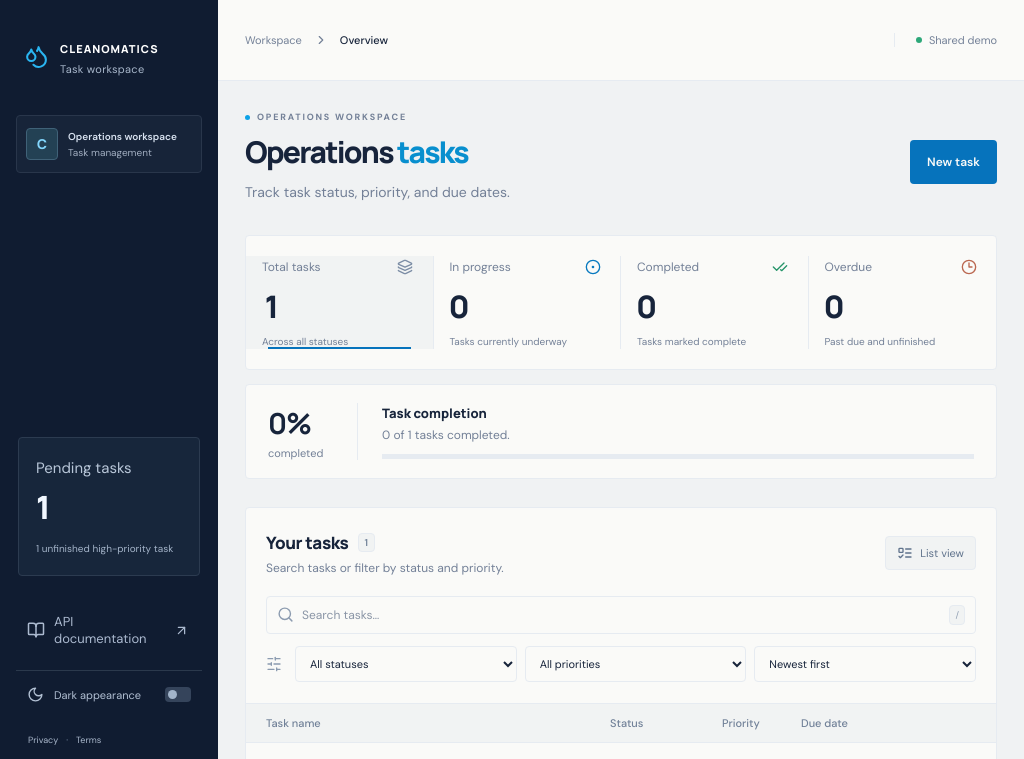
Test: workspace journeys › keeps form values on failed save; Escape closes dialog and theme persists
The image size is (1024, 759).
Click the button with aria-label "Switch to dark mode": (109, 694) [16, 670, 202, 718]
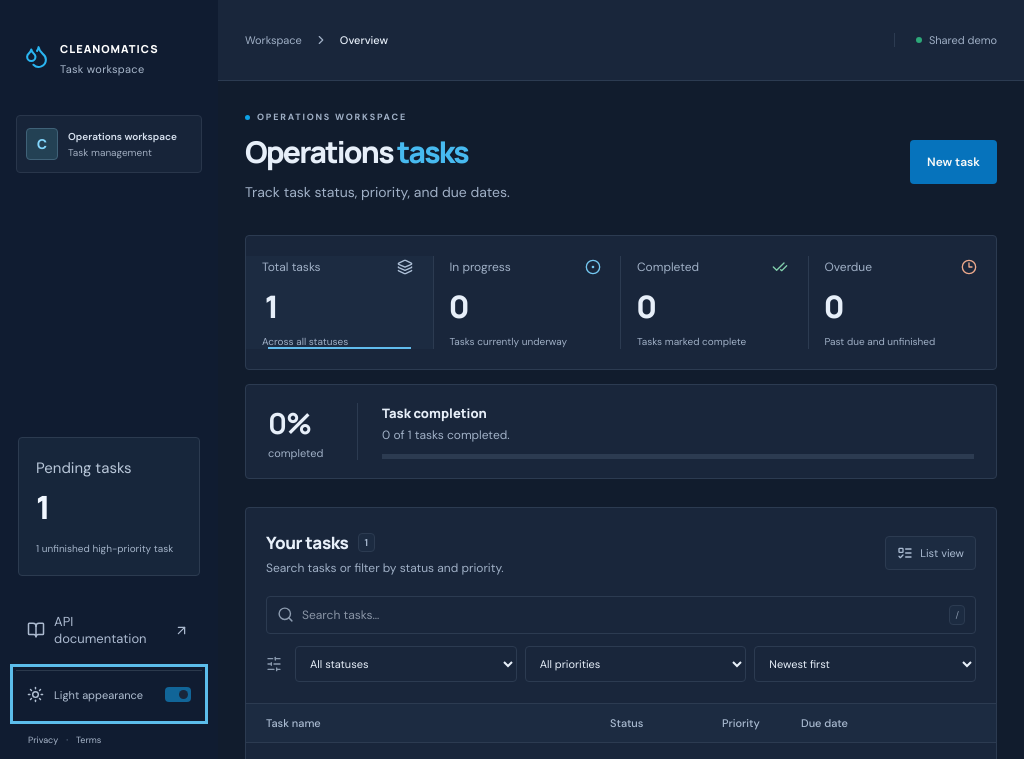
Click the button "New task": (954, 162) [910, 140, 997, 184]
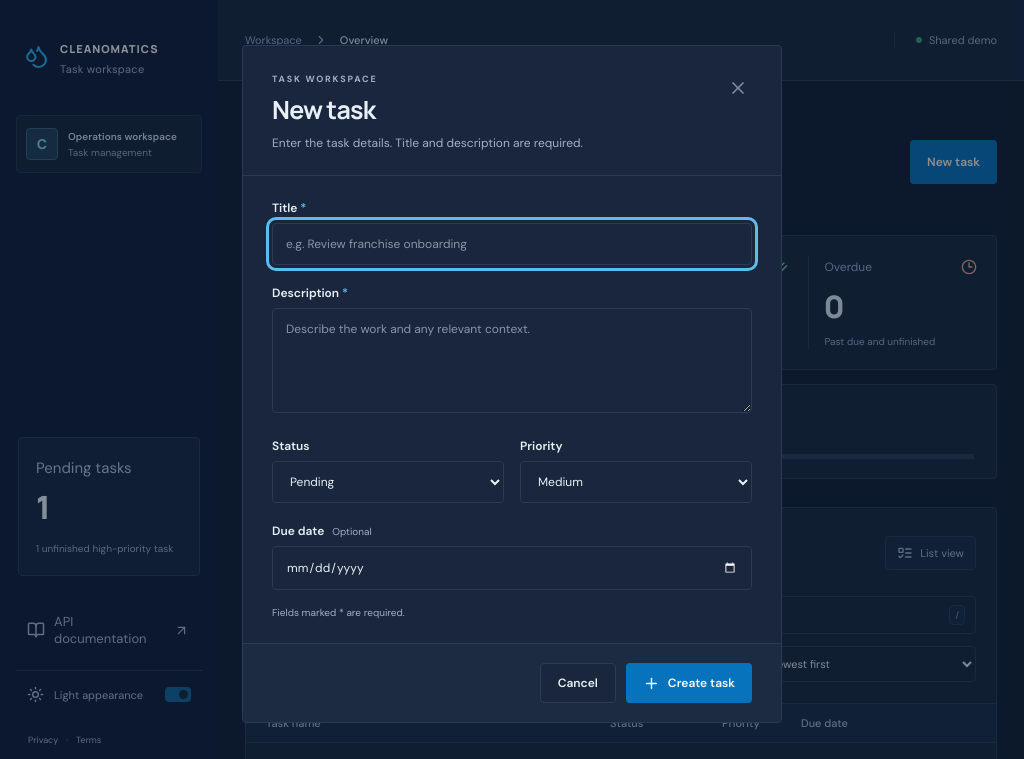
In the field labelled "Title": (512, 244) [272, 223, 752, 265], type "Keep me"
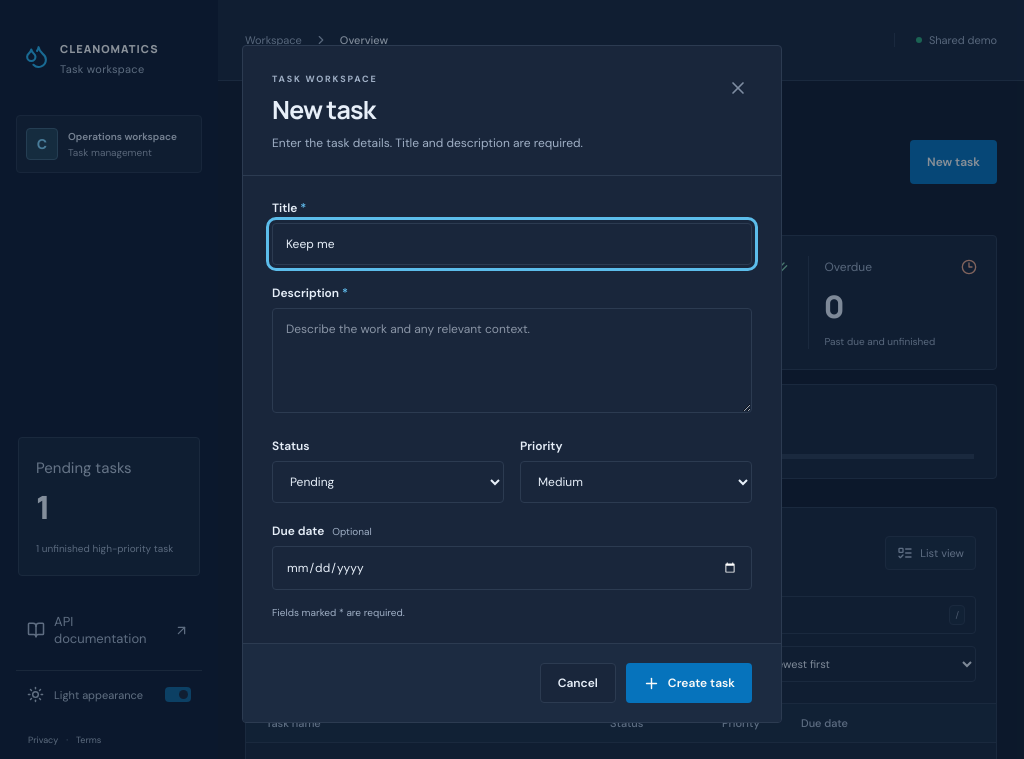
In the text box labelled "Description": (512, 361) [272, 308, 752, 413], type "Details"
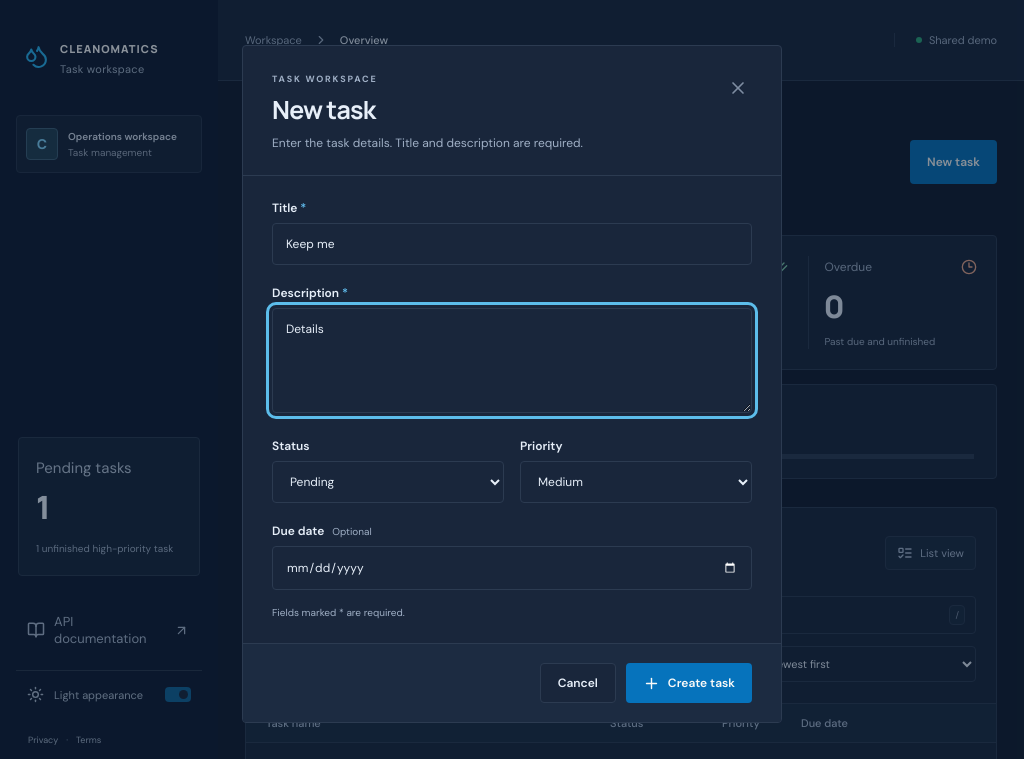
Click the button "Create task": (689, 683) [626, 663, 752, 703]
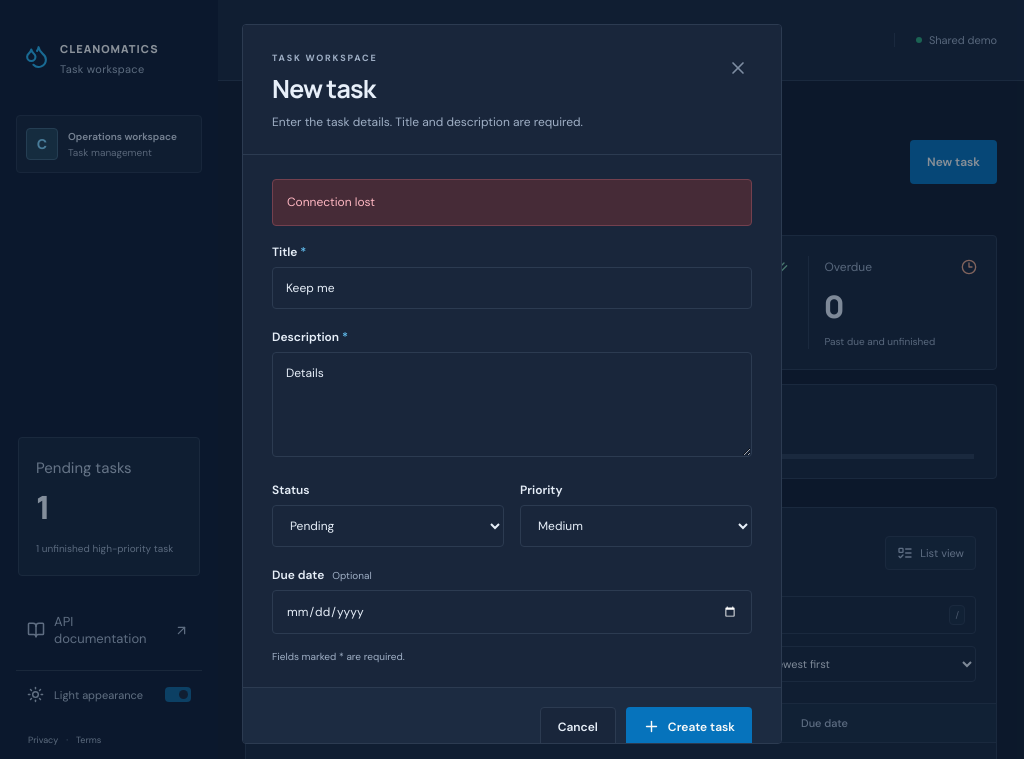
Check: the text "Connection lost" is shown, box [272, 179, 752, 226]
Press Escape
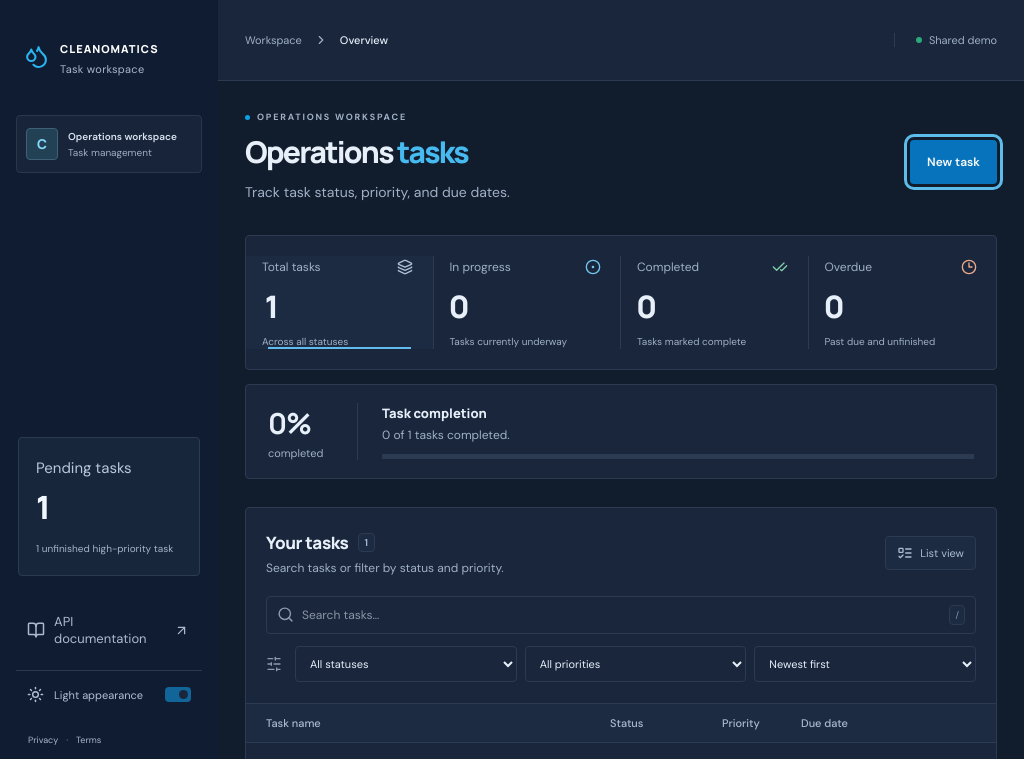
Check: the dialog is gone
